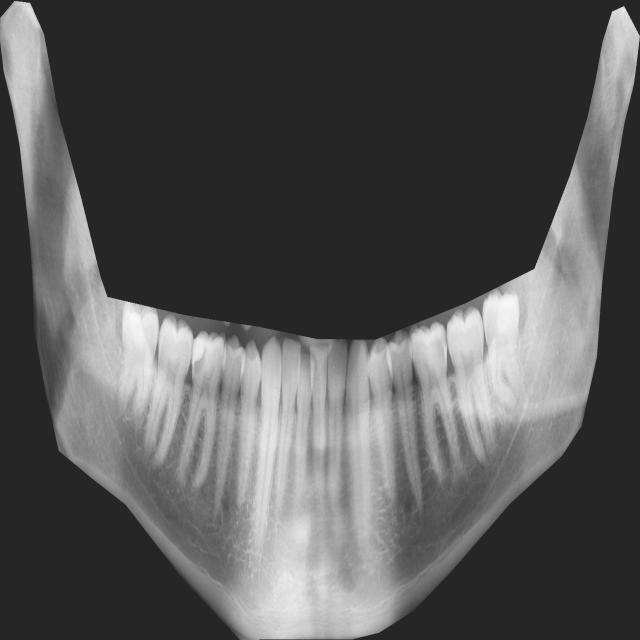mandibula: (0, 1, 640, 640)
